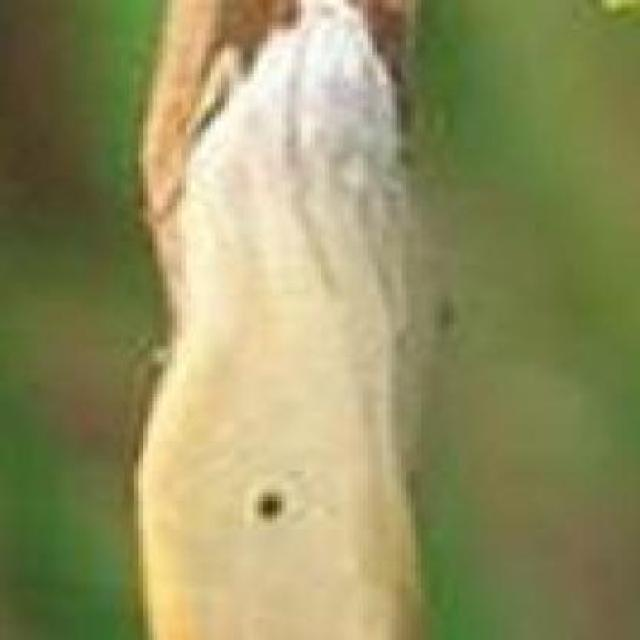stem-borer: (130, 0, 442, 640)
